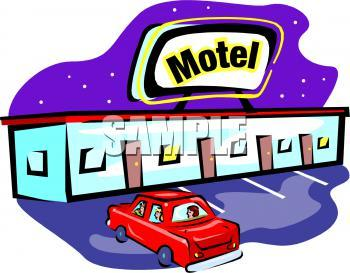car: (106, 187, 246, 270)
